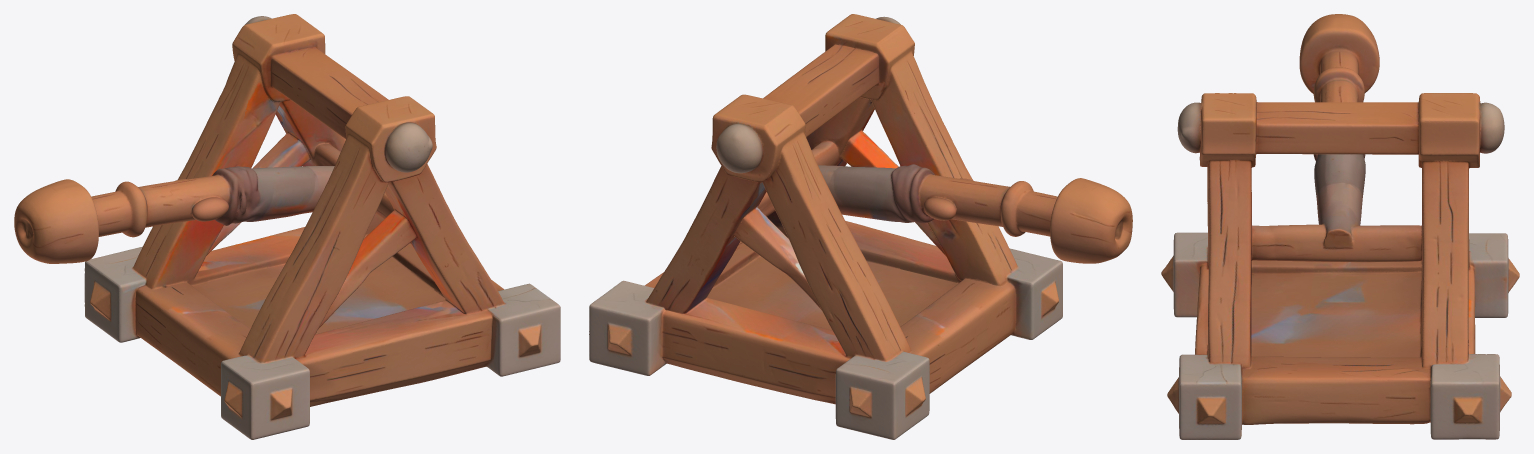
Rendered from catapult 2.glb.
3 views of the same model, side by side, from view 1: azimuth 30°, elevation 25°; view 2: azimuth 150°, elevation 25°; view 3: azimuth 270°, elevation 25° (orthographic).
Parts seen in each view (by area): view 1: tripo_node_f4967596-f1d5-45b5-baf5-cb07727f744b; view 2: tripo_node_f4967596-f1d5-45b5-baf5-cb07727f744b; view 3: tripo_node_f4967596-f1d5-45b5-baf5-cb07727f744b.
Boxes of the visible parts, x1,y1,x2,y2 form: tripo_node_f4967596-f1d5-45b5-baf5-cb07727f744b: [14, 14, 560, 439]; tripo_node_f4967596-f1d5-45b5-baf5-cb07727f744b: [589, 14, 1132, 439]; tripo_node_f4967596-f1d5-45b5-baf5-cb07727f744b: [1161, 14, 1519, 439].
Size of the model in its own units: 1 by 0.5523 by 0.6712.
Materials: 1 (1 with a texture image).
